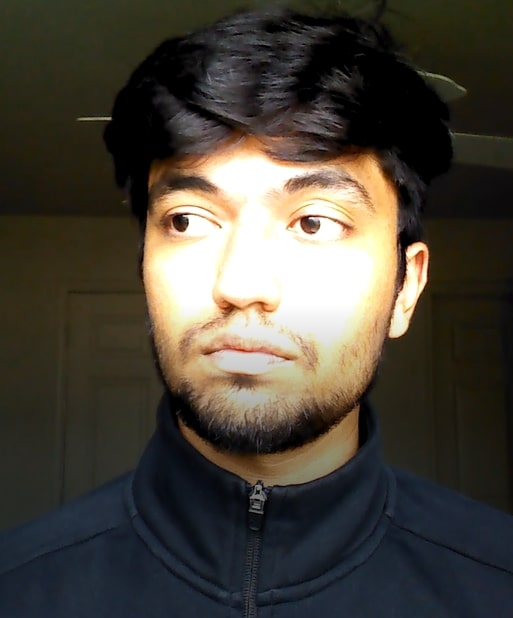Not Sleeping: (138, 173, 392, 267)
